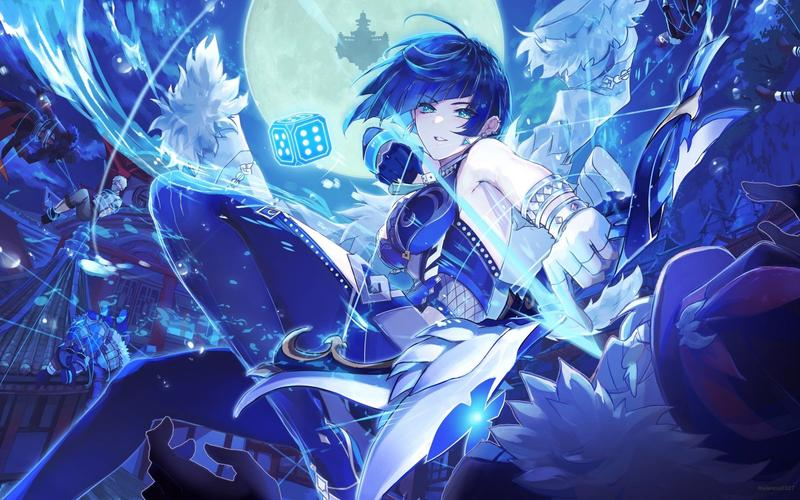夜兰: (343, 31, 624, 492)
